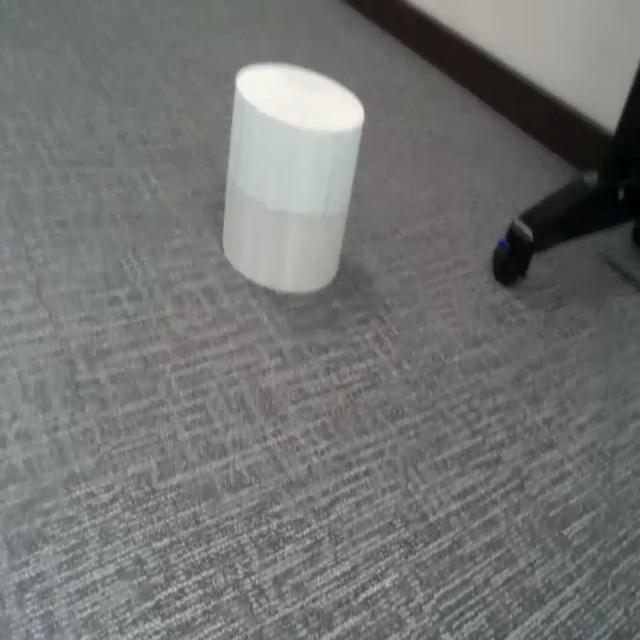cylinder: (220, 62, 367, 296)
